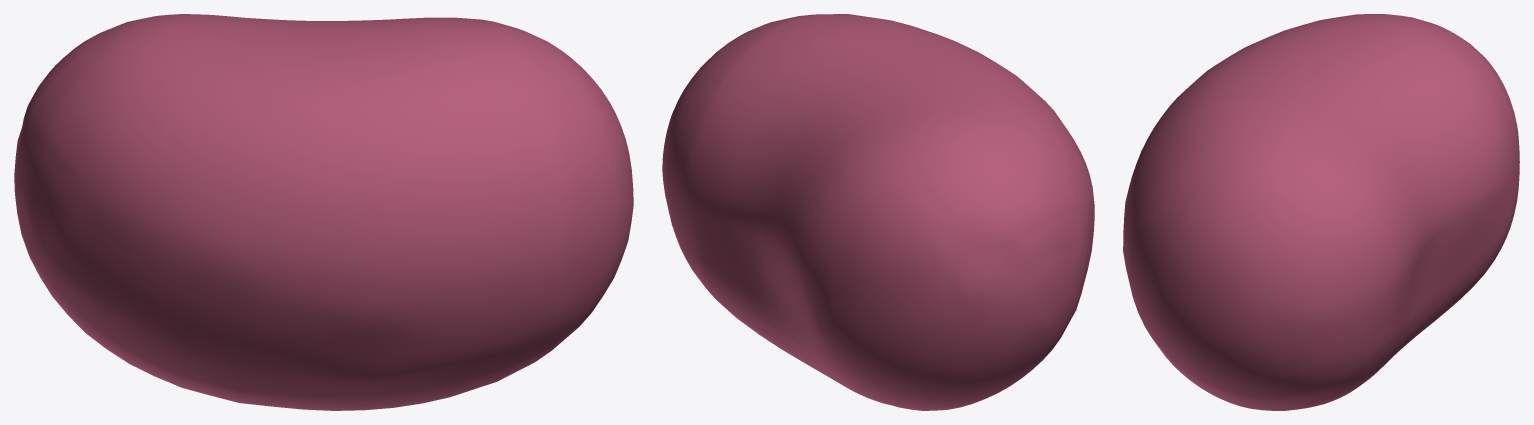
The model's file is jellyBeanPink.fbx.
3 renders of one model, left to right at view 1: azimuth 30°, elevation 25°; view 2: azimuth 150°, elevation 25°; view 3: azimuth 270°, elevation 25°, orthographic. The views are drawn at different scales.
Visible parts, largest first — view 1: pasted__pasted__model3; view 2: pasted__pasted__model3; view 3: pasted__pasted__model3.
Part boxes in pixels (x1,y1,x2,y2): pasted__pasted__model3: (14, 14, 633, 410); pasted__pasted__model3: (662, 14, 1094, 410); pasted__pasted__model3: (1123, 14, 1519, 410).
Size of the model in its own units: 2.02 by 1.37 by 1.64.
